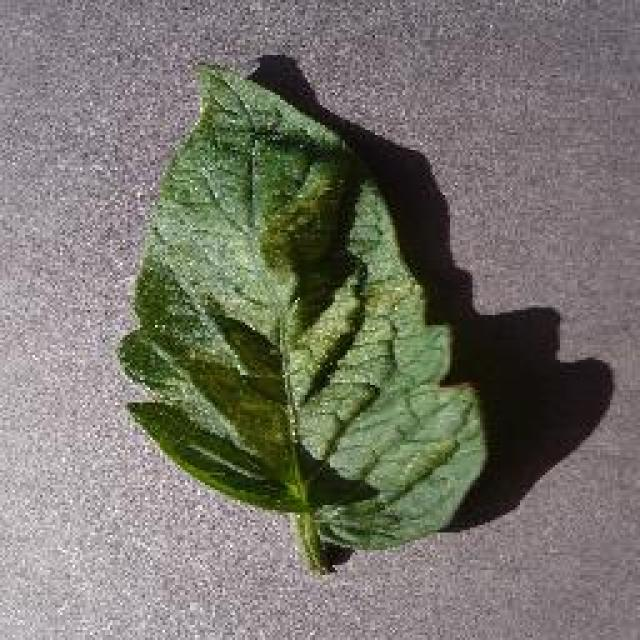Tomato___Spider_mites Two-spotted_spider_mite: (120, 65, 485, 570)
